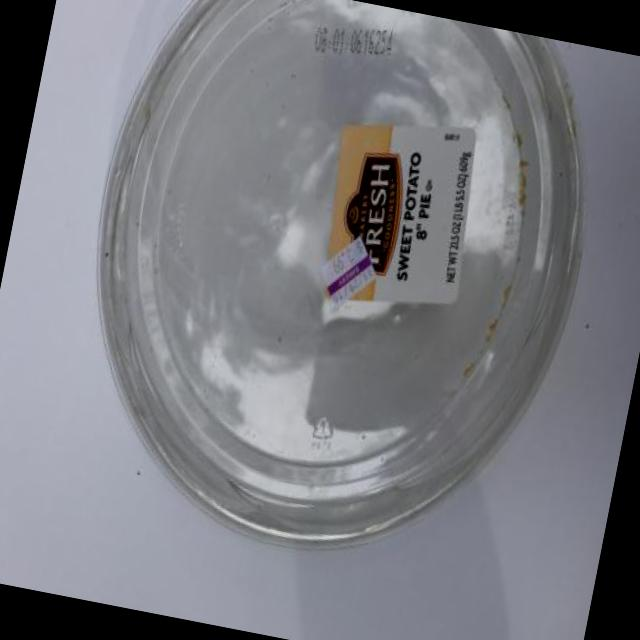Trash: (41, 0, 626, 595)
